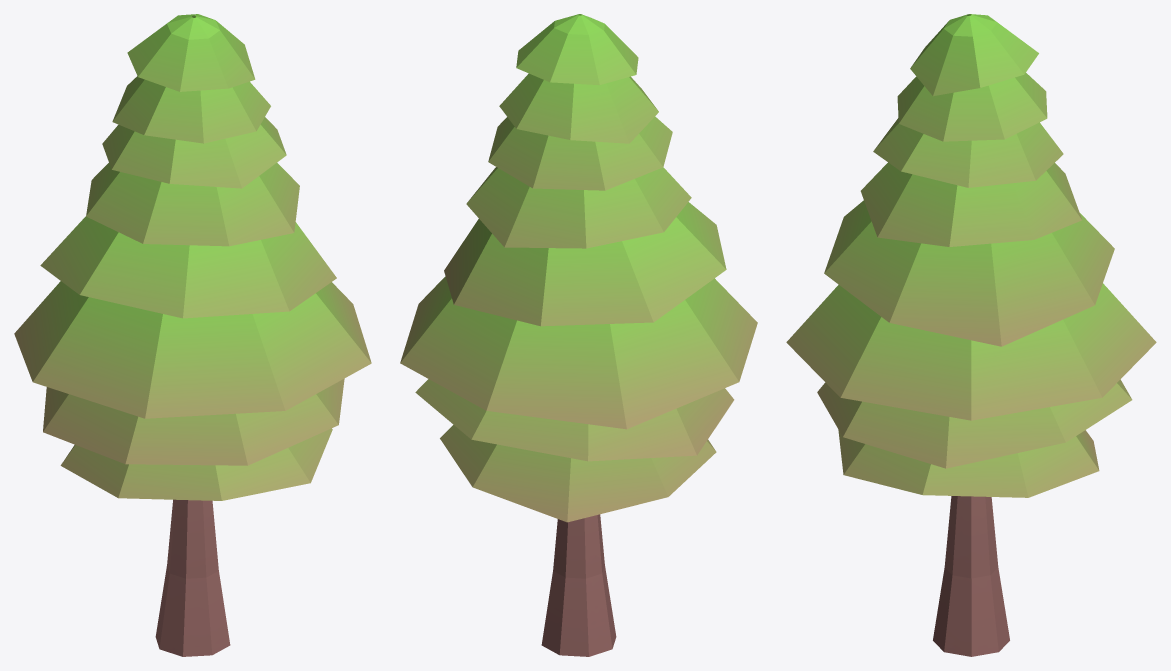
Rendered from BaumGroß02.glb.
3 renders of one model, left to right at view 1: azimuth 30°, elevation 25°; view 2: azimuth 150°, elevation 25°; view 3: azimuth 270°, elevation 25°, orthographic.
Visible parts, largest first — view 1: Cylinder.002; view 2: Cylinder.002; view 3: Cylinder.002.
Part boxes in pixels (x1,y1,x2,y2): Cylinder.002: [14, 14, 371, 656]; Cylinder.002: [400, 14, 757, 656]; Cylinder.002: [786, 14, 1156, 656].
Size of the model in its own units: 1.86 by 3.46 by 1.86.
Materials: 1 (1 with a texture image).
